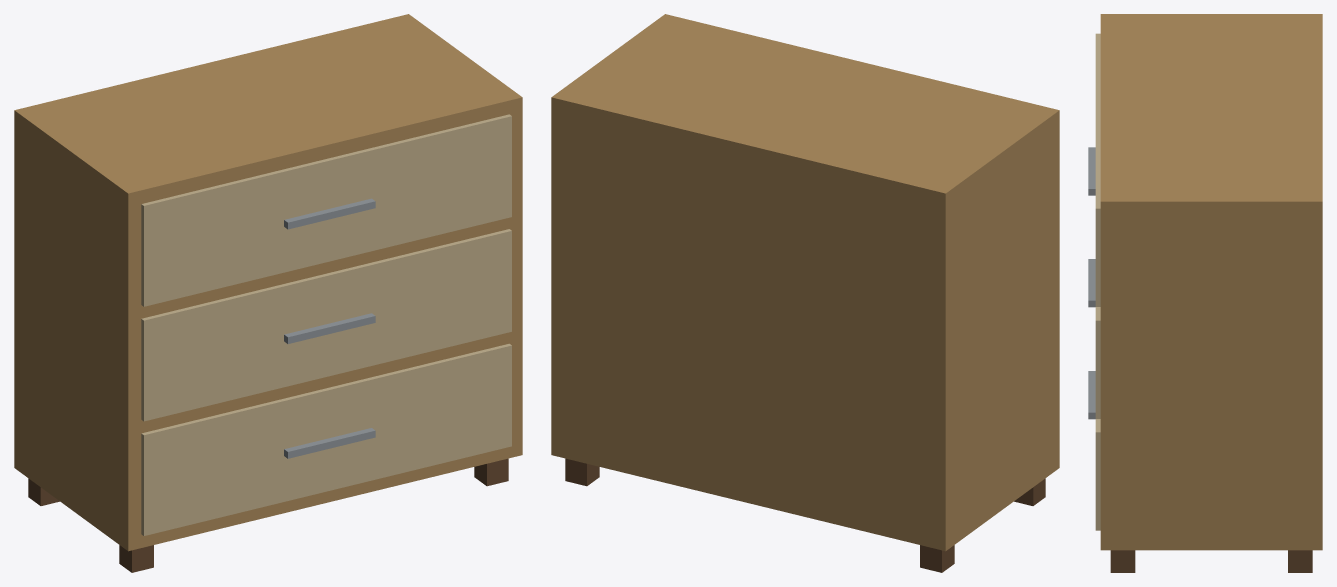
The model's file is chest_of_drawers.glb.
3 renders of one model, left to right at view 1: azimuth 30°, elevation 25°; view 2: azimuth 150°, elevation 25°; view 3: azimuth 270°, elevation 25°, orthographic. The views are drawn at different scales.
Parts seen in each view (by area): view 1: chest_of_drawers; view 2: chest_of_drawers; view 3: chest_of_drawers.
Boxes of the visible parts, x1,y1,x2,y2 form: chest_of_drawers: (14,14,522,572); chest_of_drawers: (551,14,1059,572); chest_of_drawers: (1088,14,1322,572).
Size of the model in its own units: 0.9 by 0.84 by 0.475.
